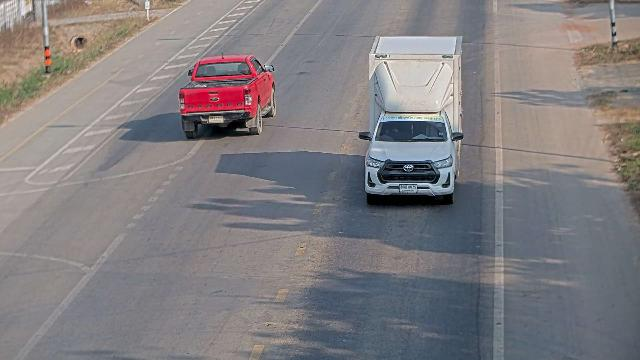pickup-truck: (178, 52, 276, 139)
truck: (358, 32, 469, 205)
